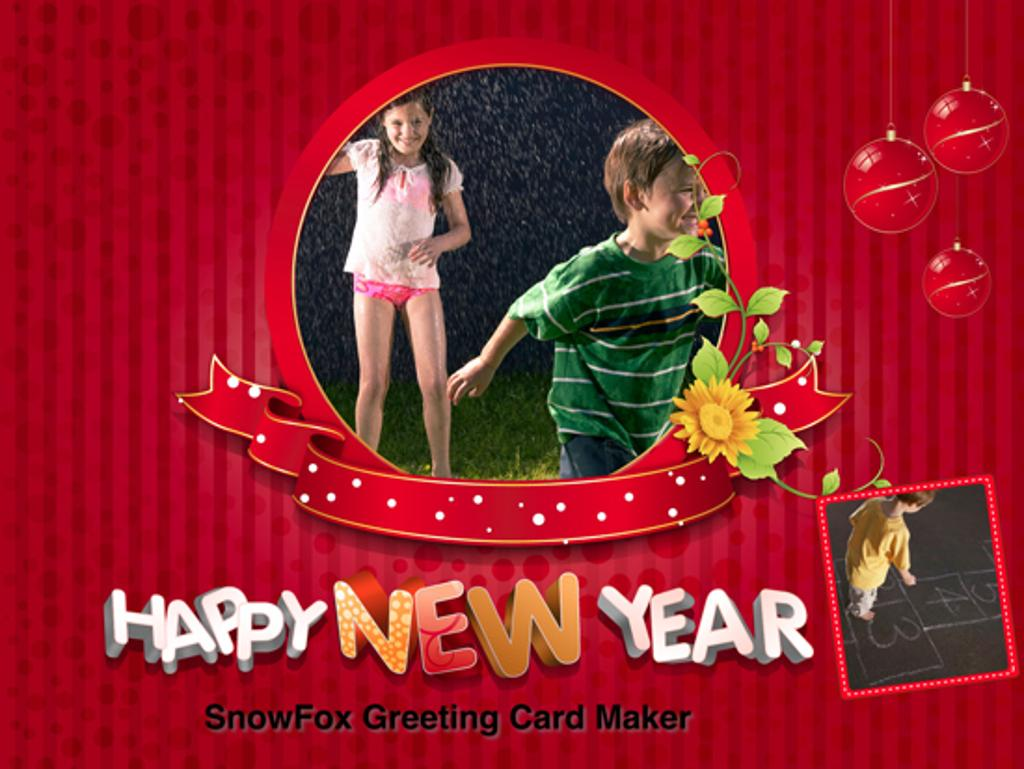face: (646, 160, 708, 240), (386, 106, 428, 153)
